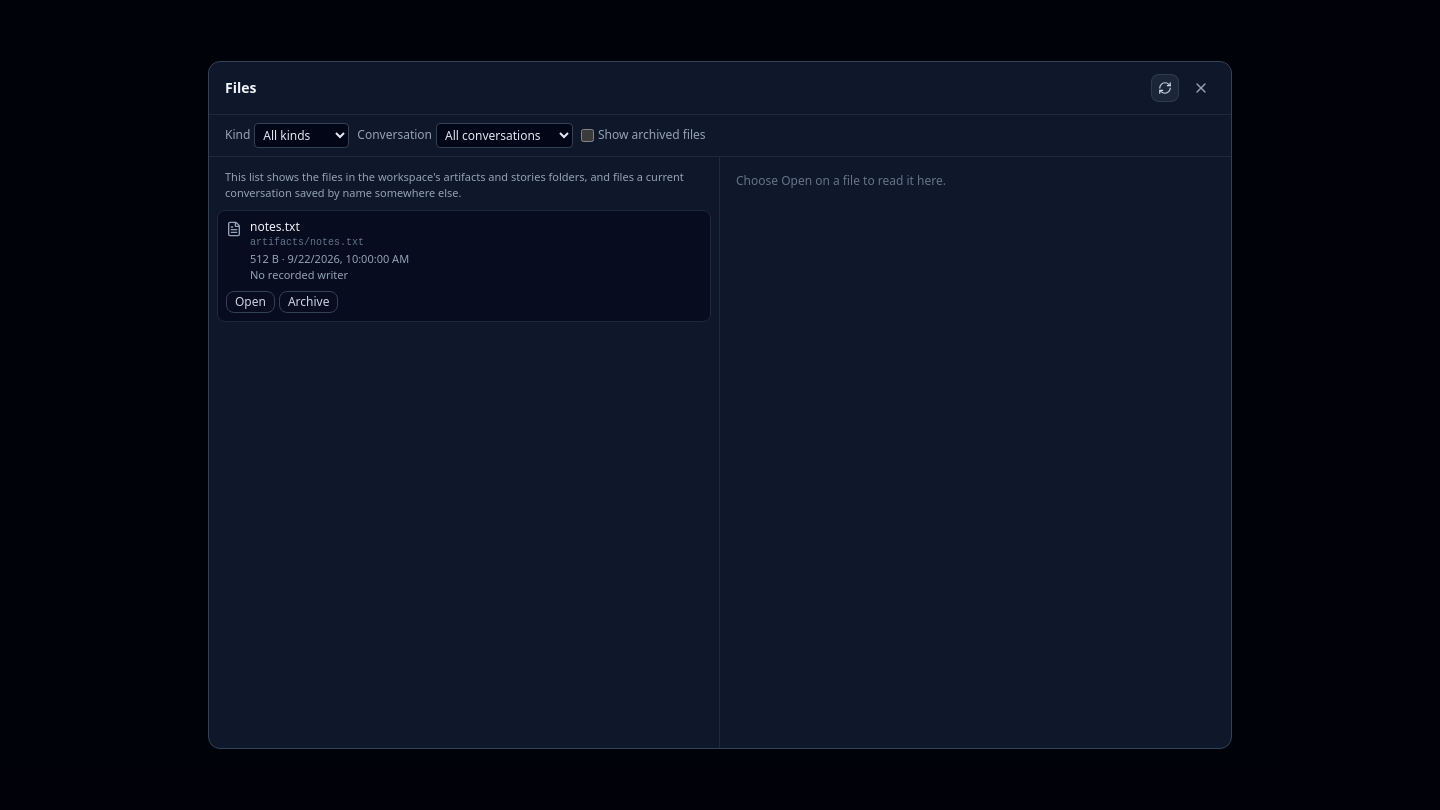
Test: ArtifactLibrary, the Files screen (#1554) › opens a file and shows its text
This screenshot has width=1440, height=810.
Click the button with test id "files-open" at coordinates (250, 302), box [226,291,275,313]
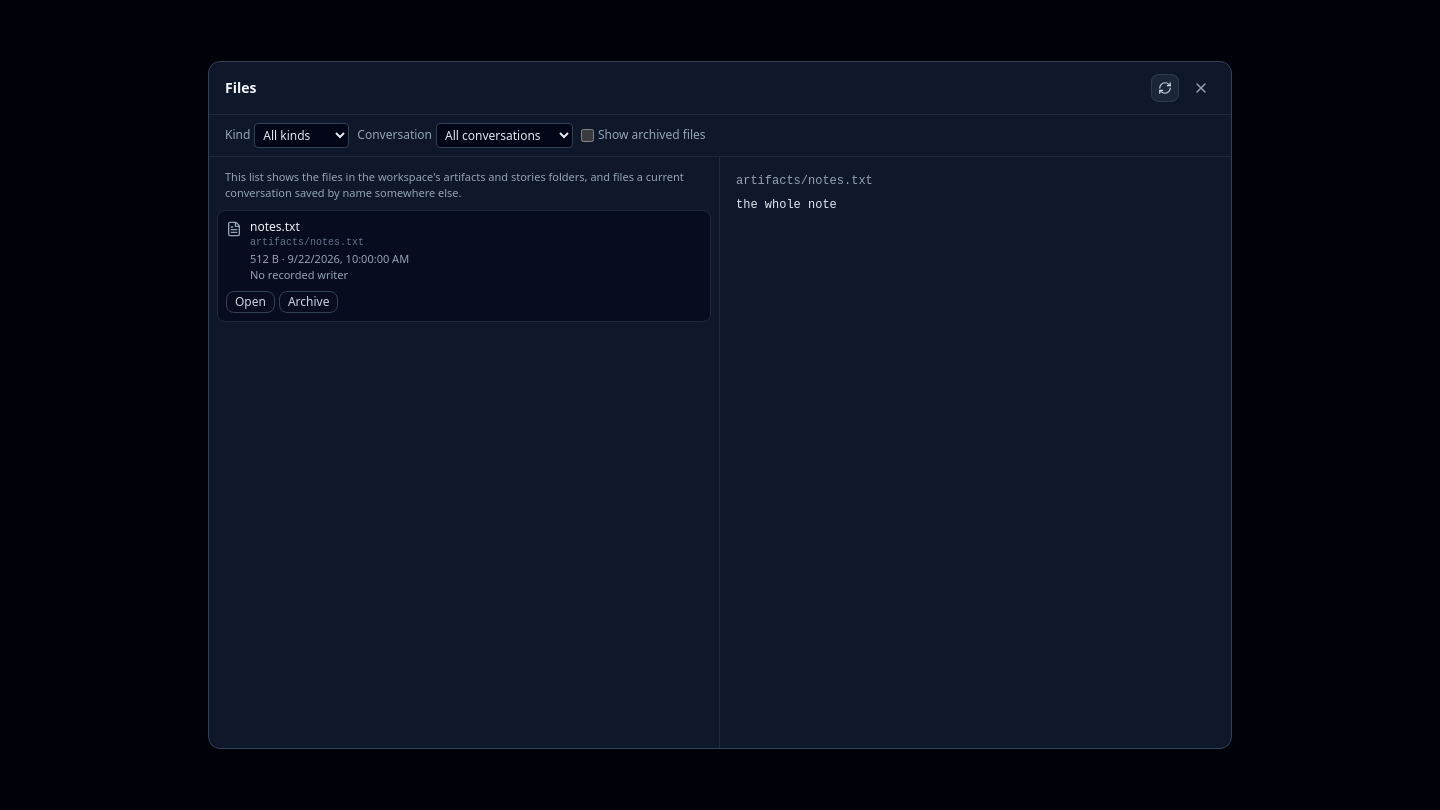
Expected: the text with test id "files-preview-text" reads "the whole note", [736,198,837,212]
